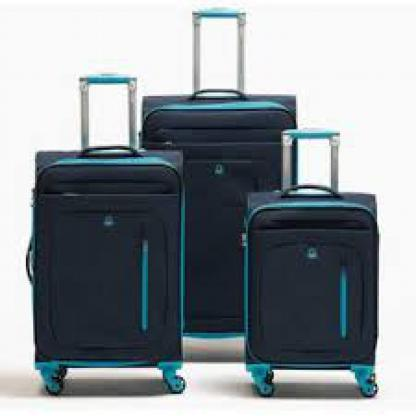maleta: (133, 87, 307, 347), (20, 152, 198, 403), (228, 181, 390, 411)
